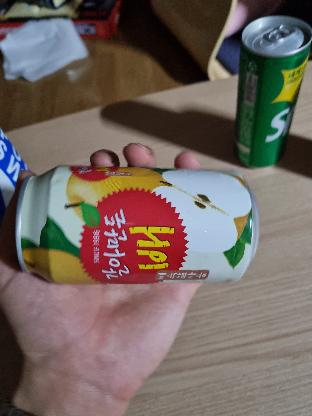Can: (15, 163, 261, 287), (236, 13, 308, 166)
